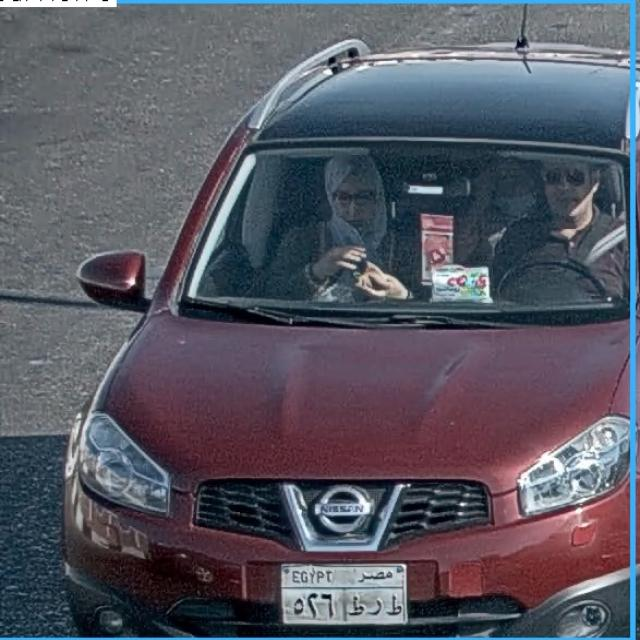windshield: (162, 136, 627, 318)
